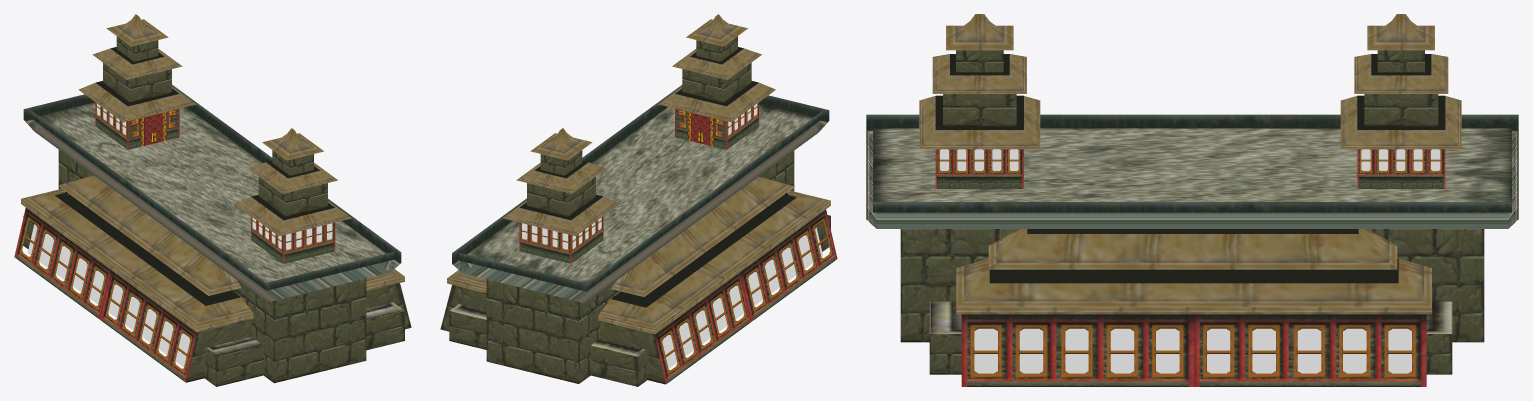
Rendered from l_guardhouse.glb.
3 views of the same model, side by side, from view 1: azimuth 30°, elevation 25°; view 2: azimuth 150°, elevation 25°; view 3: azimuth 270°, elevation 25° (orthographic). The views are drawn at different scales.
Parts seen in each view (by area): view 1: Gaurd House, Litwin_gh_; view 2: Gaurd House, Litwin_gh_; view 3: Gaurd House, Litwin_gh_.
Part boxes in pixels (x1=…): Gaurd House: x1=14, y1=14, x2=411, y2=386; Litwin_gh_: x1=27, y1=103, x2=332, y2=367; Gaurd House: x1=440, y1=14, x2=837, y2=386; Litwin_gh_: x1=522, y1=104, x2=822, y2=368; Gaurd House: x1=866, y1=14, x2=1518, y2=386; Litwin_gh_: x1=940, y1=149, x2=1440, y2=373.
Size of the model in its own units: 18.64 by 17.45 by 34.49.
6 materials, 6 textured.
